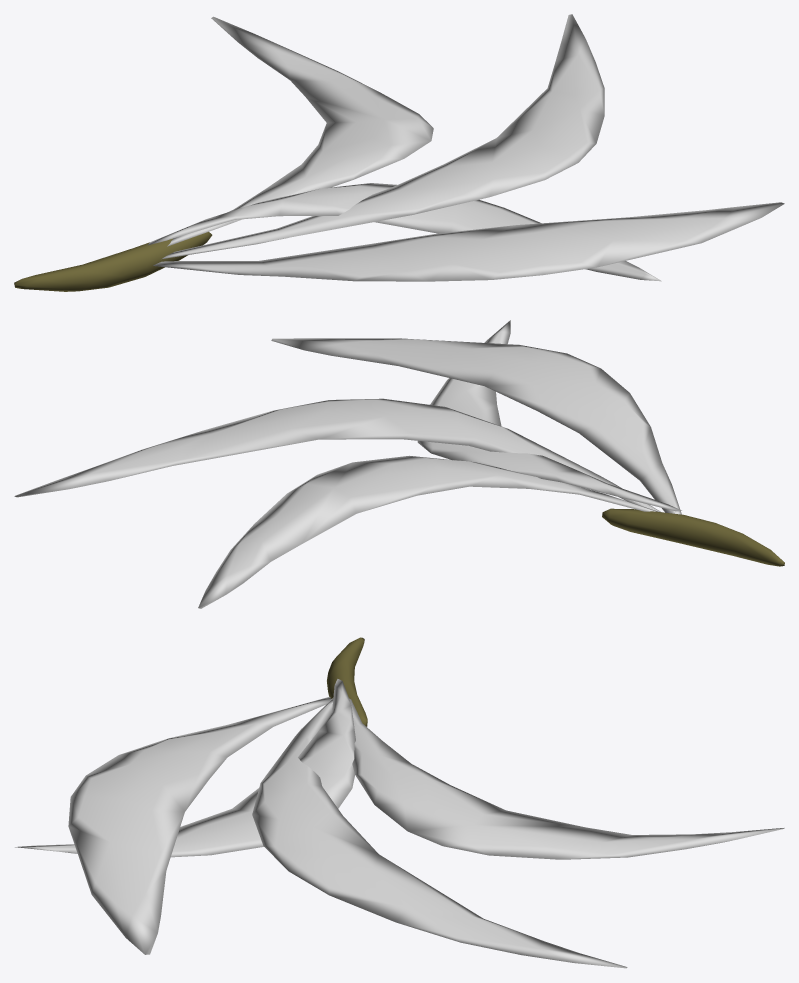
File: SM_ShoreKelp.fbx
3 renders of one model, top to bottom at view 1: azimuth 30°, elevation 25°; view 2: azimuth 150°, elevation 25°; view 3: azimuth 270°, elevation 25°, orthographic. The views are drawn at different scales.
Visible parts, largest first — view 1: SM_ShoreKelp; view 2: SM_ShoreKelp; view 3: SM_ShoreKelp.
Part boxes in pixels (left/top/right/bottom): SM_ShoreKelp: left=14, top=14, right=784, bottom=291; SM_ShoreKelp: left=14, top=320, right=784, bottom=608; SM_ShoreKelp: left=15, top=637, right=784, bottom=968.
Size of the model in its own units: 35.33 by 34.64 by 2.12.
